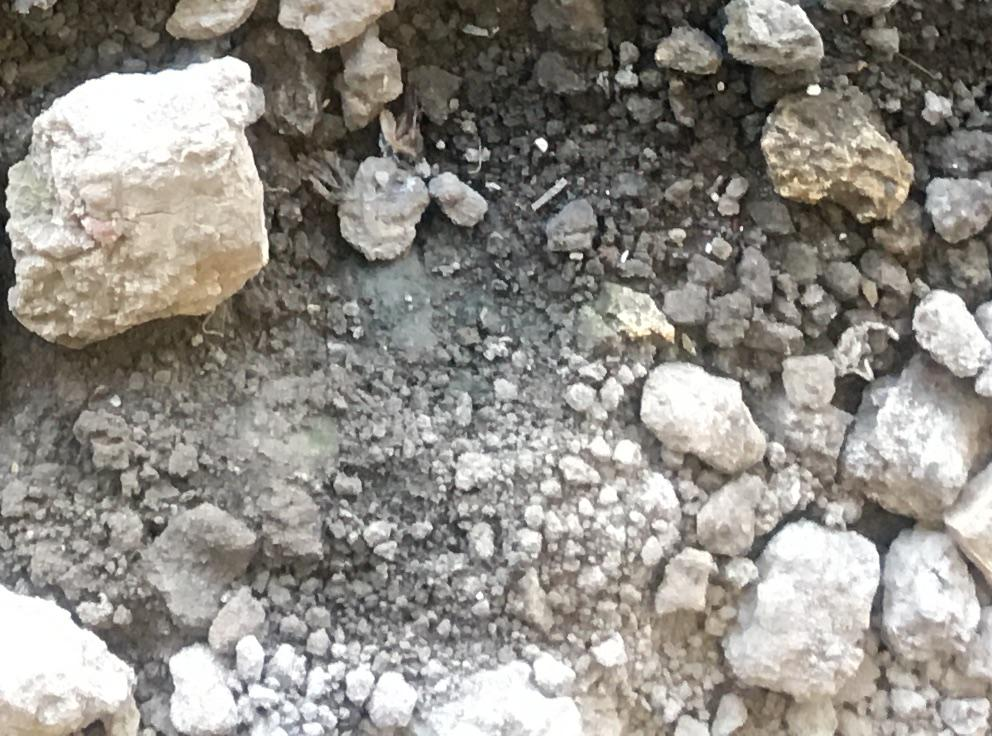block: (17, 63, 270, 353), (724, 505, 875, 704), (842, 344, 981, 520), (769, 87, 919, 242), (629, 357, 764, 475), (883, 525, 977, 669)
